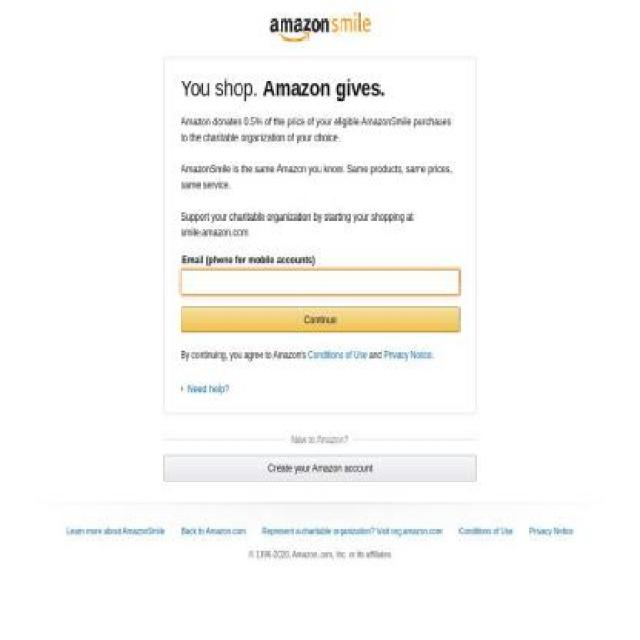button: (164, 455, 476, 480), (180, 380, 229, 397)
field: (181, 270, 459, 296), (181, 307, 459, 331)
